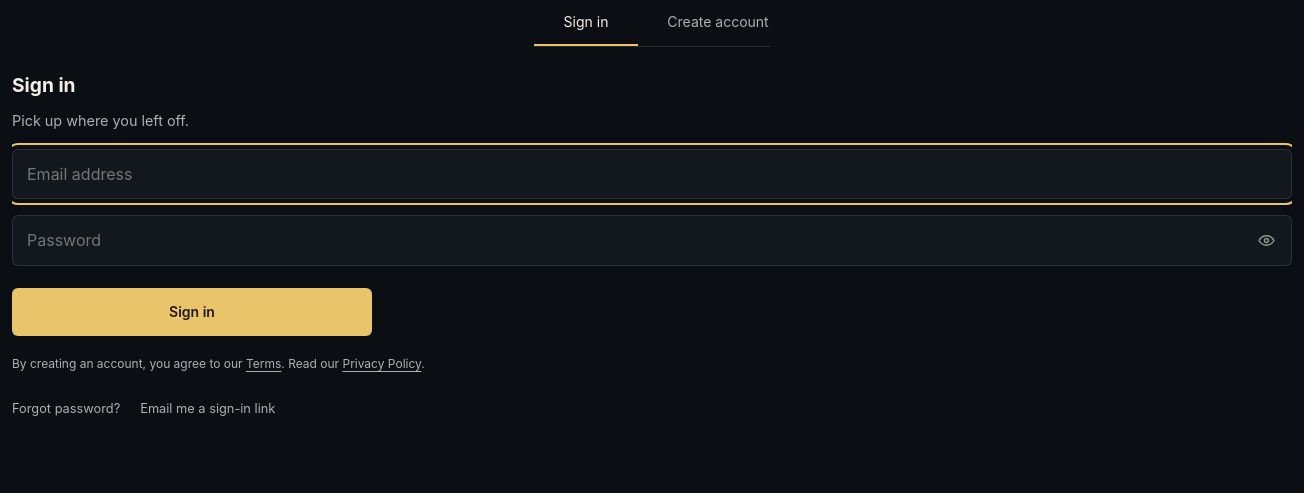
invalid password response exits loading with a useful error
The width and height of the screenshot is (1304, 493).
Type "viewer@example.com" into the field labelled "Email address".
click(652, 174); type("viewer@example.com")  # box [12,148,1292,199]
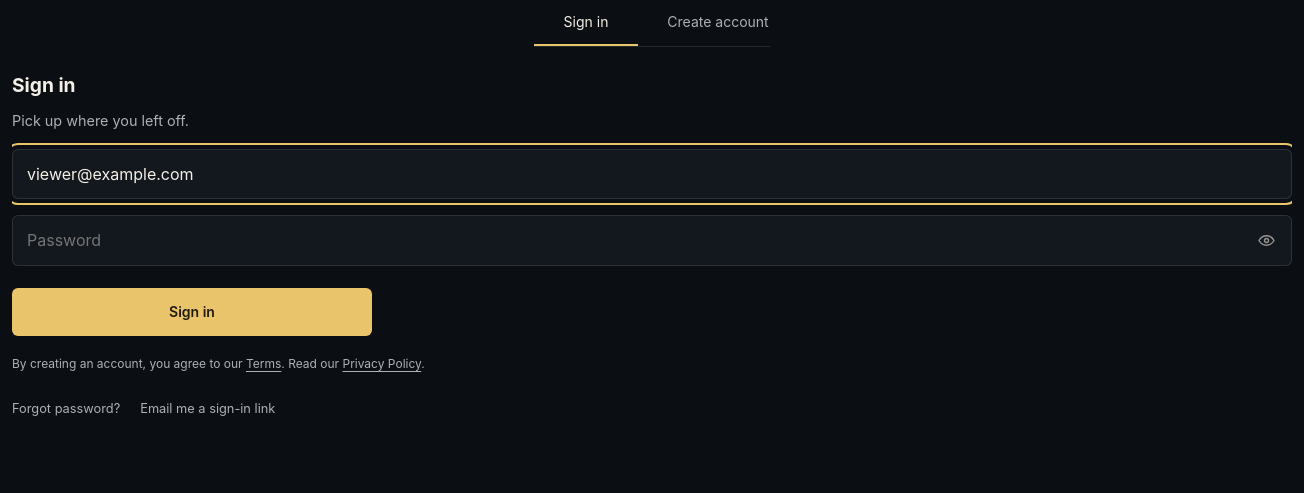
Type "password1" into the password field labelled "Password".
click(652, 241); type("password1")  # box [12,215,1292,266]
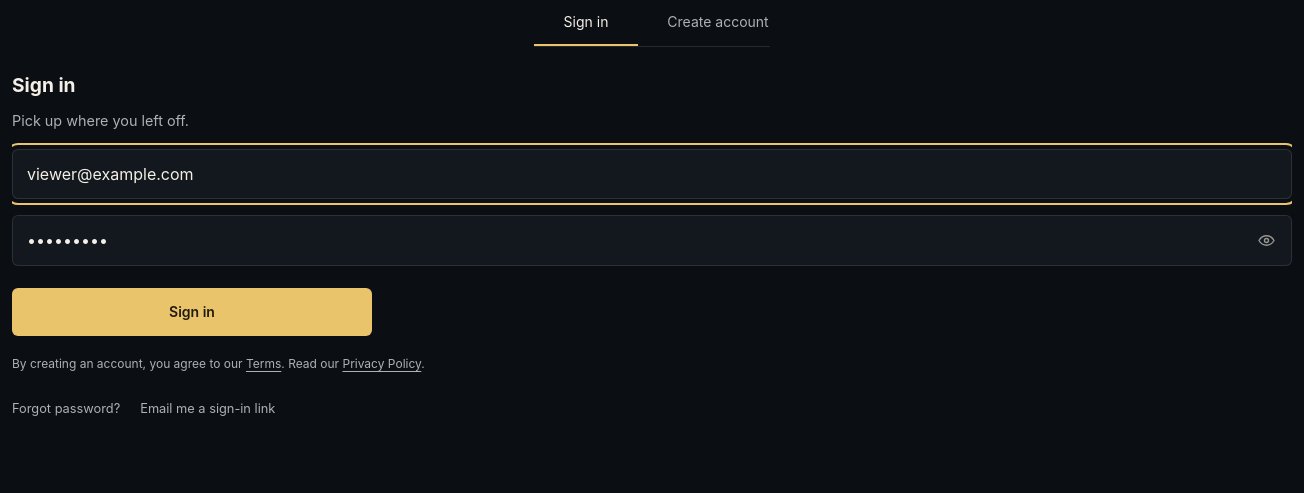
Click the button "Sign in".
click(192, 312)  # box [12,288,372,336]
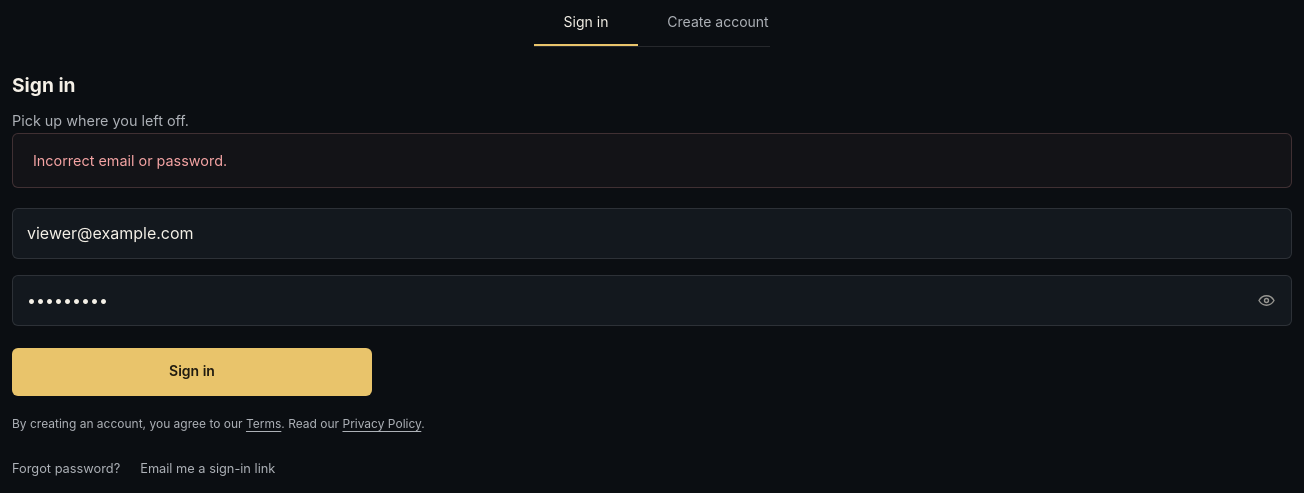
Expected: the button "Sign in" is enabled, [12,348,372,396]
Expected: the text "Incorrect email or password." is shown, [12,132,1292,188]
